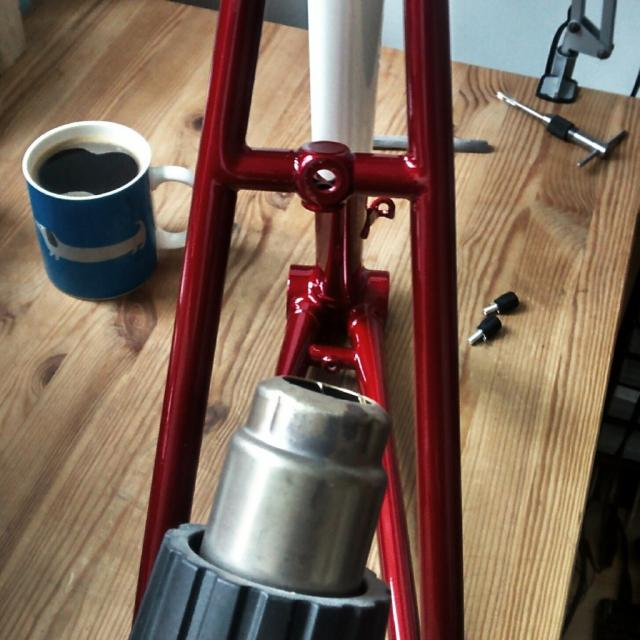Coffee: (20, 114, 166, 300)
